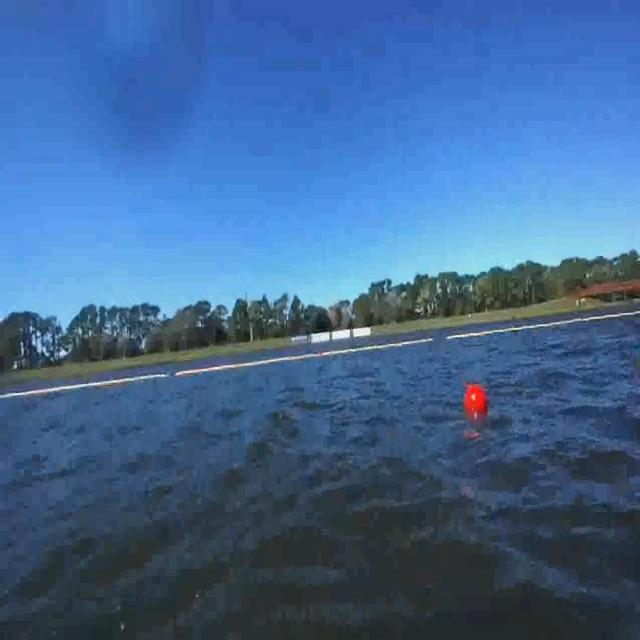red-buoy: (464, 384, 486, 414)
